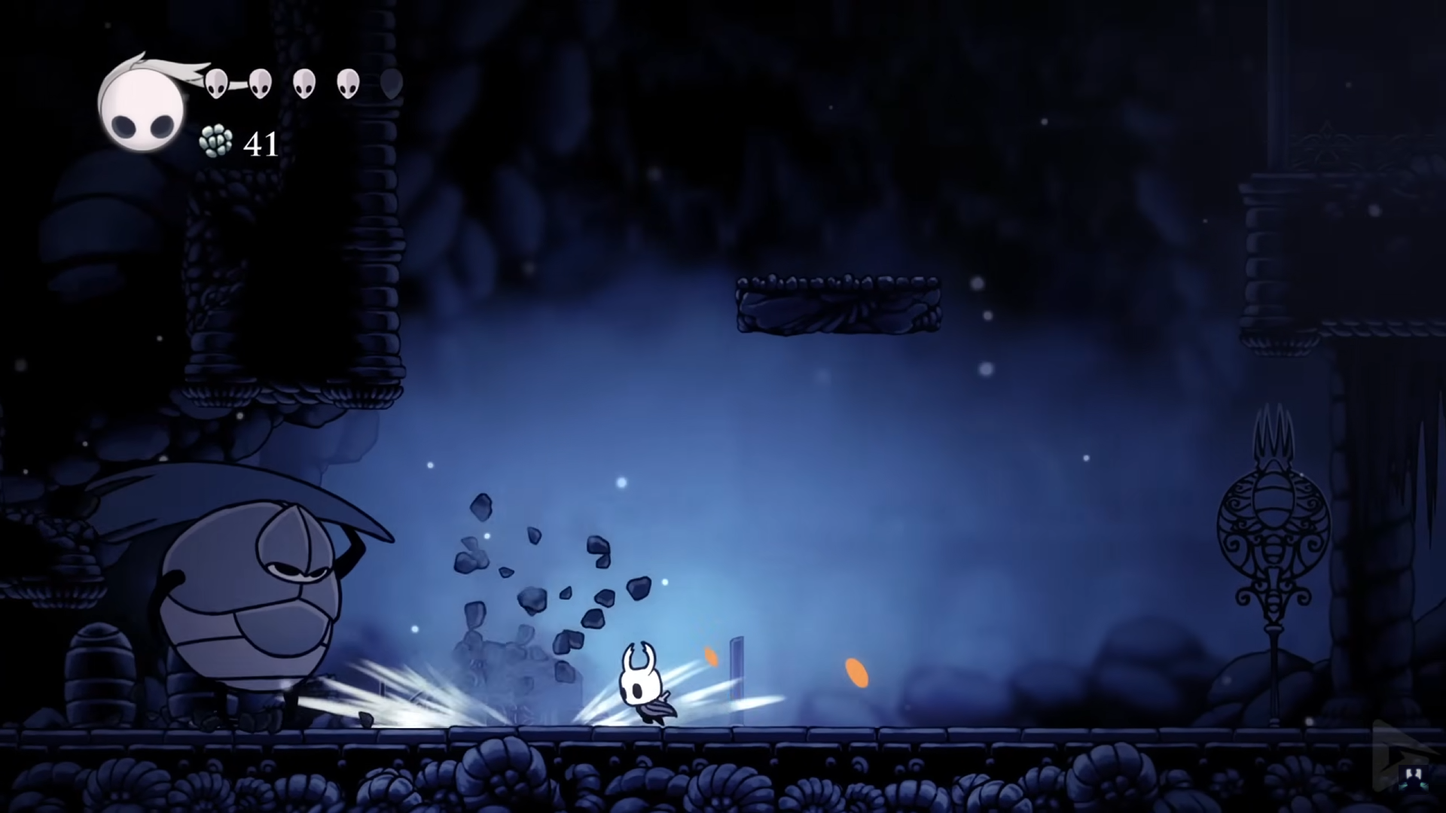HK: (606, 640, 683, 729)
